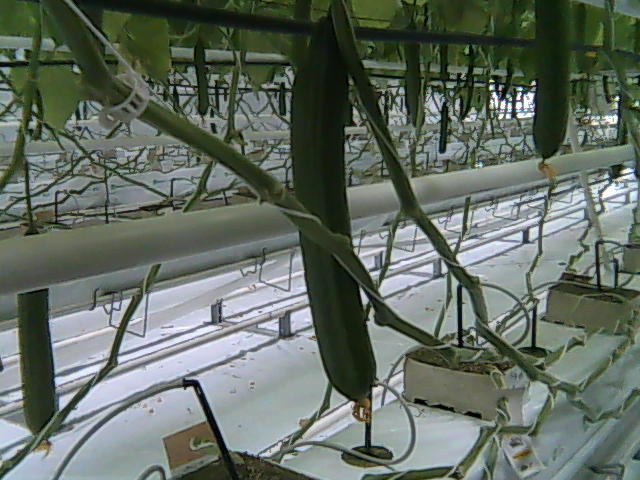concombre: (287, 9, 381, 424), (528, 1, 575, 187)
